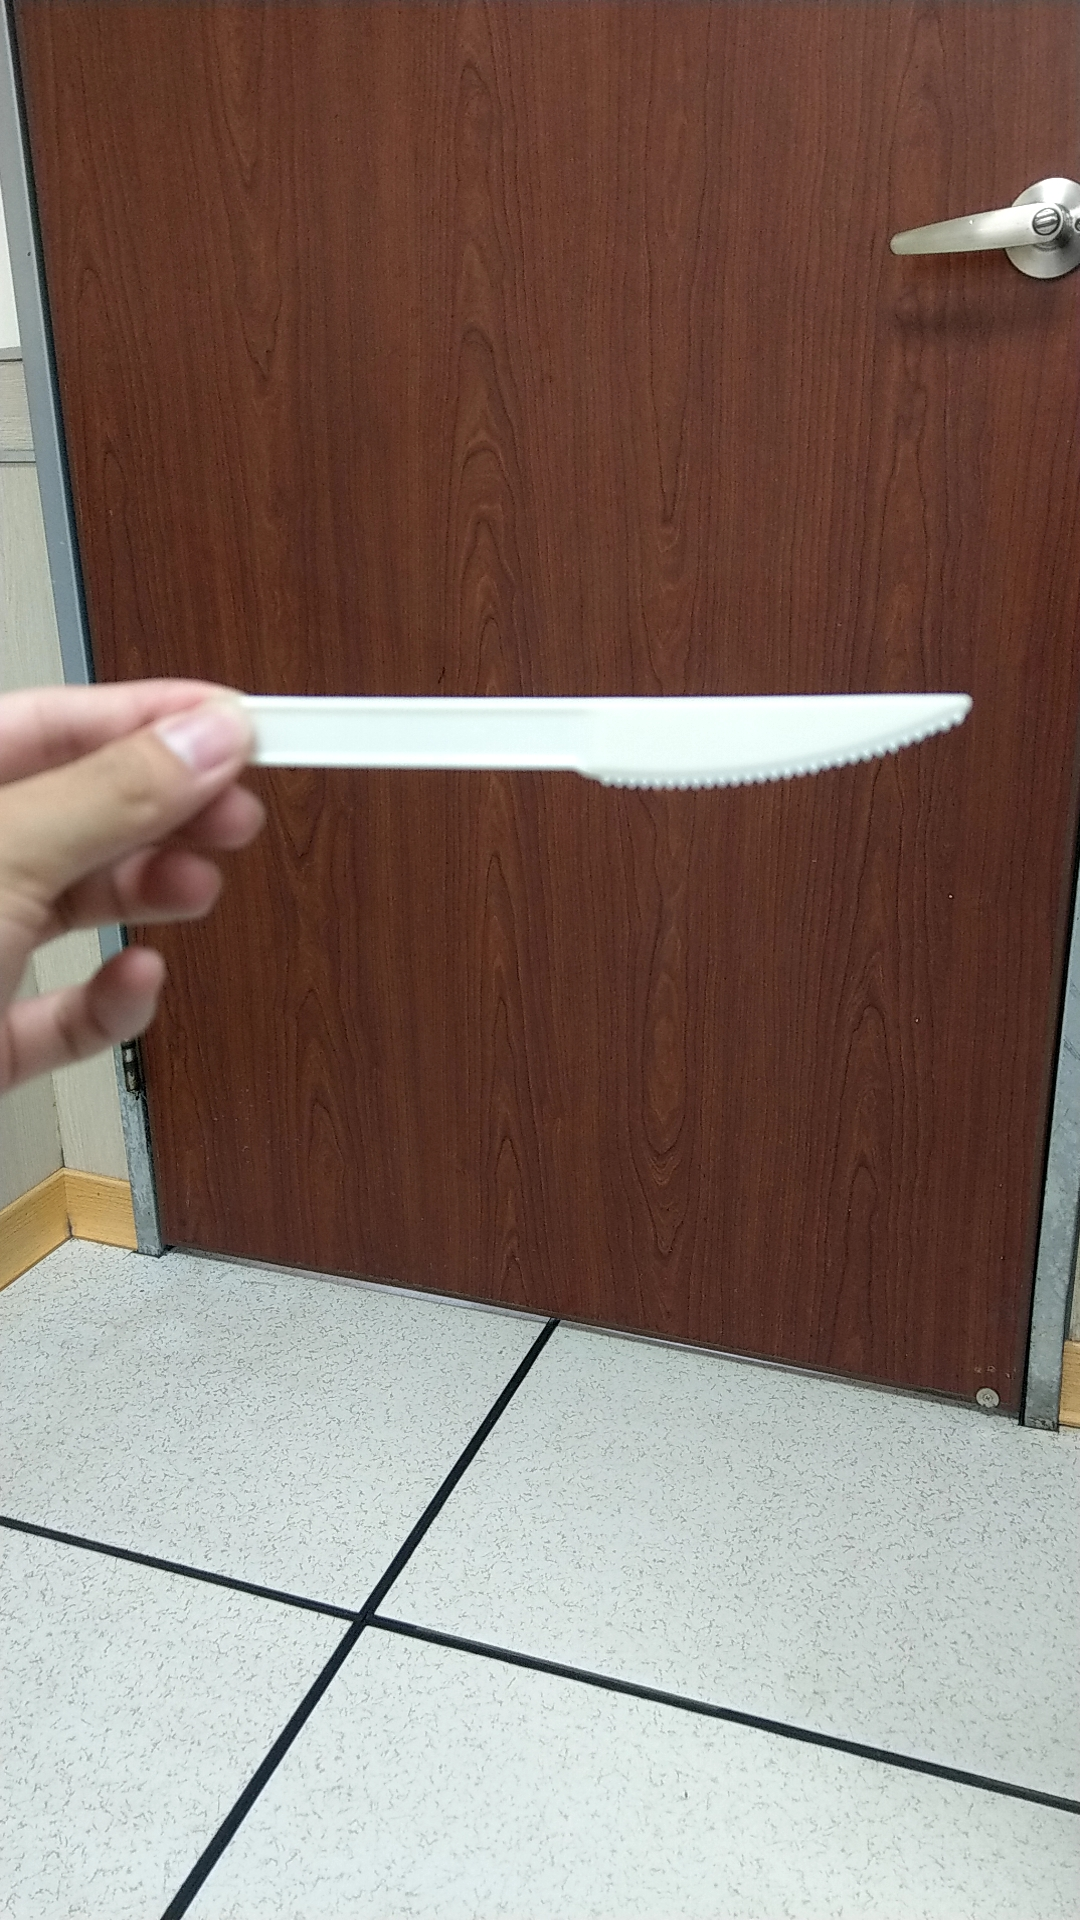knife: (265, 657, 1007, 829)
